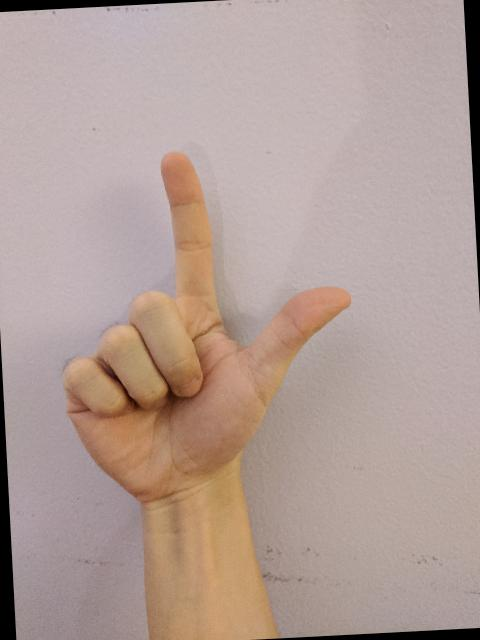L: (39, 136, 366, 514)
